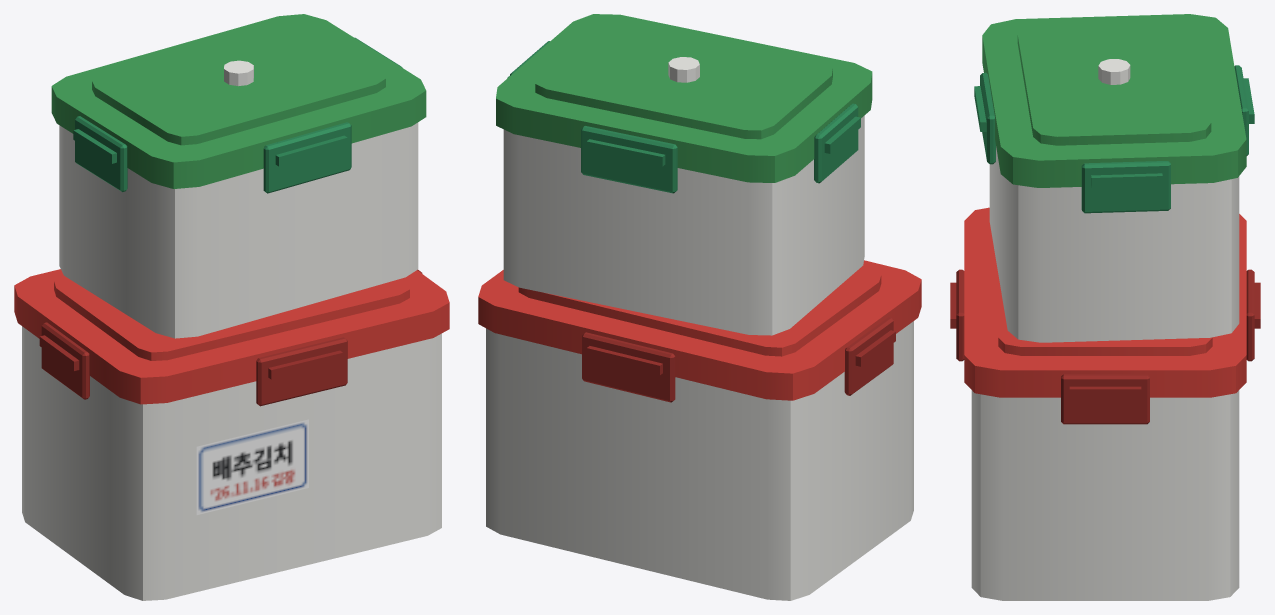
File: SC_Home_Kimchi_Container_Stack.gltf
3 views of the same model, side by side, from view 1: azimuth 30°, elevation 25°; view 2: azimuth 150°, elevation 25°; view 3: azimuth 270°, elevation 25° (orthographic). The views are drawn at different scales.
Parts seen in each view (by area): view 1: SC_Home_Kimchi_Container_Stack; view 2: SC_Home_Kimchi_Container_Stack; view 3: SC_Home_Kimchi_Container_Stack.
Boxes of the visible parts, x1,y1,x2,y2 form: SC_Home_Kimchi_Container_Stack: (14, 14, 449, 600); SC_Home_Kimchi_Container_Stack: (478, 14, 921, 600); SC_Home_Kimchi_Container_Stack: (950, 14, 1260, 600).
Size of the model in its own units: 0.468 by 0.571 by 0.348.
Materials: 2 (2 with a texture image).
